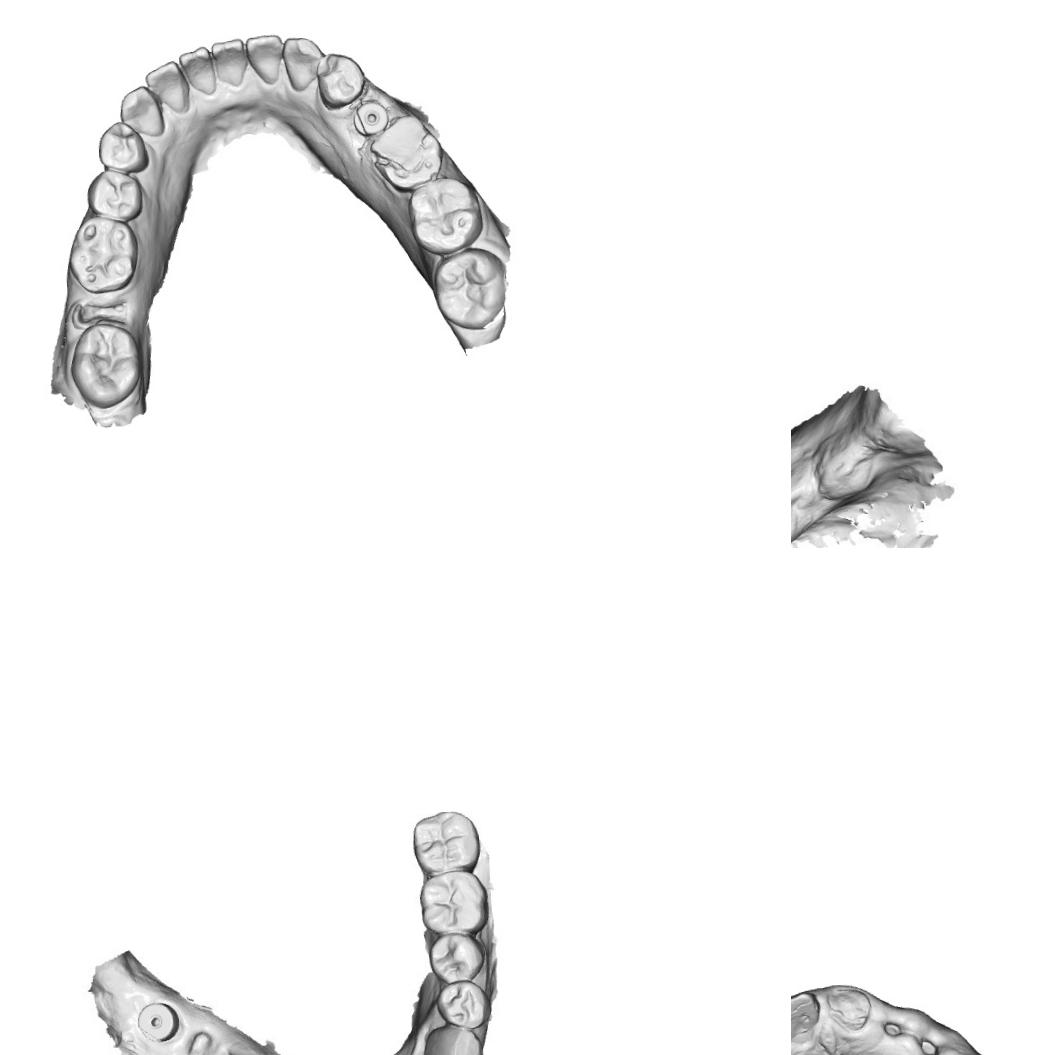canine: (115, 82, 168, 140), (280, 34, 326, 93), (425, 1021, 484, 1055)
implant: (133, 995, 182, 1048), (348, 98, 390, 140)
incisor: (142, 59, 190, 116), (242, 31, 286, 88), (175, 44, 218, 98), (208, 36, 248, 88), (791, 989, 822, 1045)
molar: (65, 318, 148, 412), (364, 109, 447, 196), (427, 247, 510, 333), (405, 171, 487, 257), (64, 212, 140, 297), (418, 868, 486, 934), (414, 810, 476, 874)
premolar: (84, 164, 146, 222), (314, 48, 369, 112), (92, 118, 148, 176), (430, 929, 484, 982), (440, 980, 494, 1026)
